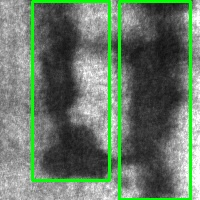patches: (119, 1, 190, 199), (32, 1, 109, 180)
